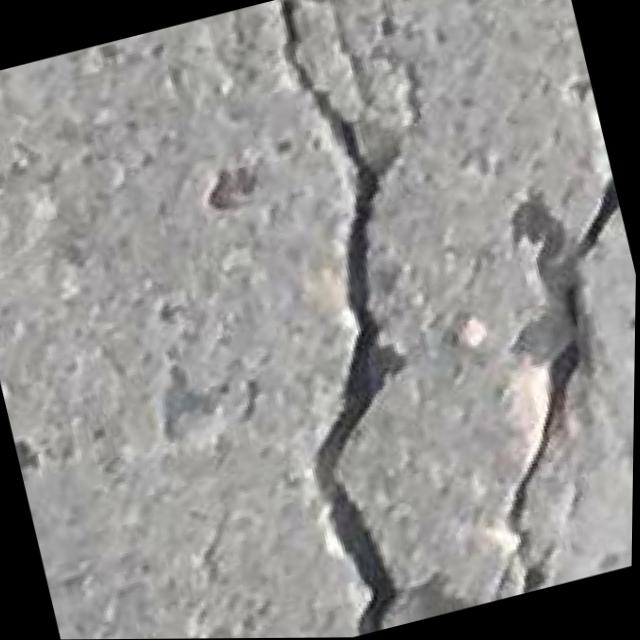Crack: (183, 0, 544, 639), (417, 137, 638, 596)
